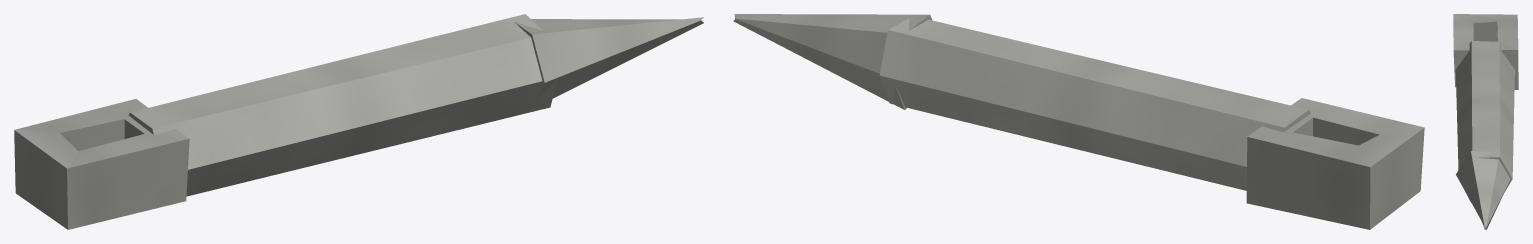
Rendered from needle_steel.glb.
3 renders of one model, left to right at view 1: azimuth 30°, elevation 25°; view 2: azimuth 150°, elevation 25°; view 3: azimuth 270°, elevation 25°, orthographic. The views are drawn at different scales.
Visible parts, largest first — view 1: NeedleSteel; view 2: NeedleSteel; view 3: NeedleSteel.
Part boxes in pixels (bbox=[...]): NeedleSteel: bbox=[14, 14, 703, 229]; NeedleSteel: bbox=[733, 14, 1424, 229]; NeedleSteel: bbox=[1453, 14, 1518, 229].
Bounding box in the file's own units: 0.3368 × 0.0378 × 0.0477.
Materials: 1 (1 with a texture image).
